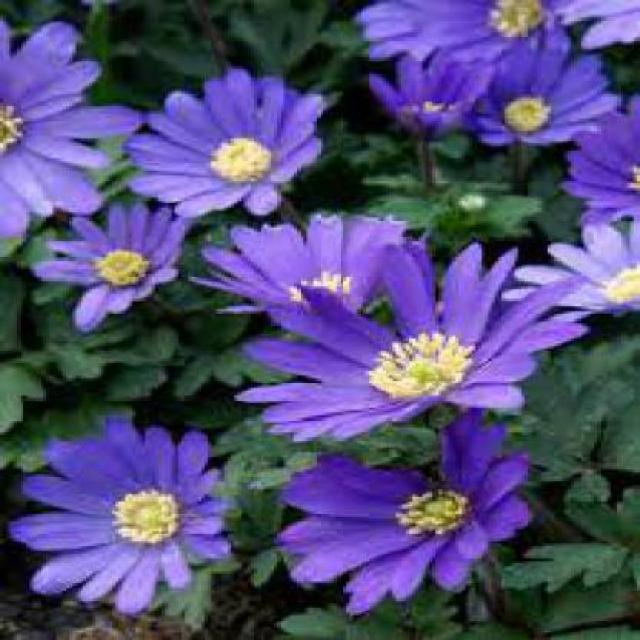Flower: (231, 243, 588, 443), (277, 408, 535, 615), (7, 415, 235, 613), (3, 15, 142, 238), (122, 67, 327, 218), (33, 200, 192, 331), (449, 29, 620, 146), (498, 219, 637, 336), (356, 3, 587, 60), (370, 50, 492, 139), (557, 111, 637, 232), (363, 331, 475, 398), (113, 489, 182, 546), (393, 486, 472, 534), (208, 135, 271, 183), (287, 271, 353, 307), (485, 3, 545, 40), (99, 248, 153, 286), (502, 96, 551, 133), (603, 264, 637, 307)
